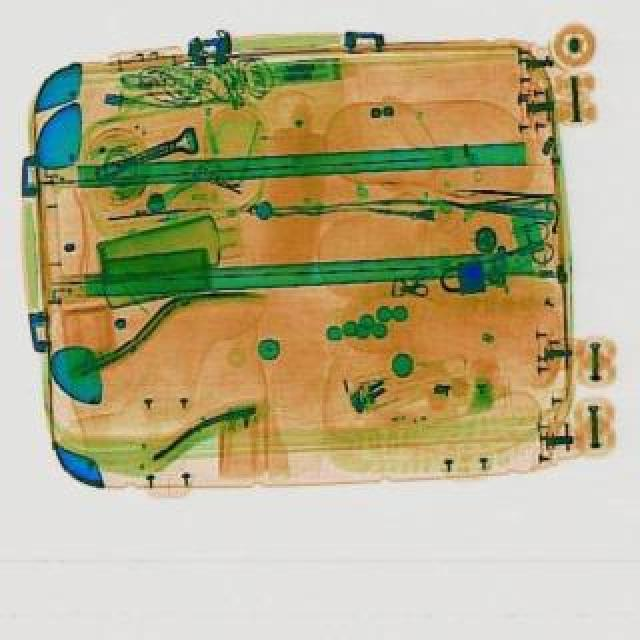pliers: (476, 220, 560, 284)
